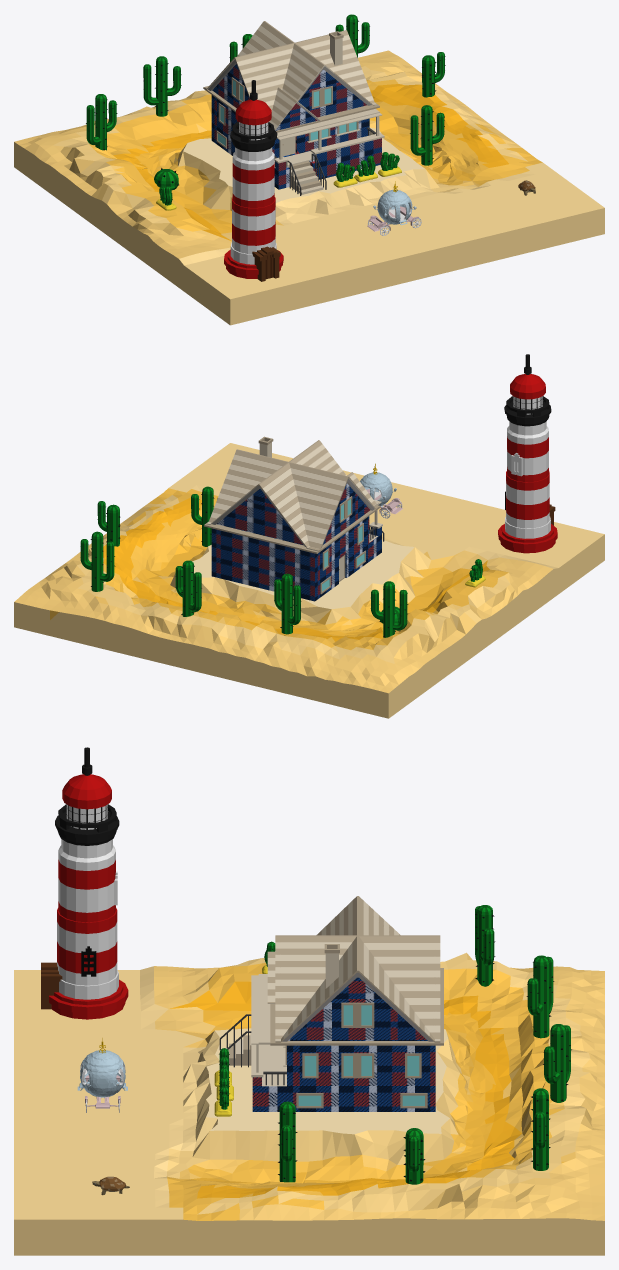
3 renders of one model, top to bottom at view 1: azimuth 30°, elevation 25°; view 2: azimuth 150°, elevation 25°; view 3: azimuth 270°, elevation 25°, orthographic. The views are drawn at different scales.
Parts seen in each view (by area): view 1: Cube.001, Cube.171, OBJRANDOM_LIGHTHOUSE, VEHICLES_FANTASY_CARRIAGE, Cylinder.044, Cylinder.037, Cylinder.045, Cylinder.038, Cylinder.042, Cylinder.039, Cylinder.041; view 2: Cube.001, Cube.171, OBJRANDOM_LIGHTHOUSE, Cylinder.042, Cylinder.045, Cylinder.044, Cylinder.043, VEHICLES_FANTASY_CARRIAGE, Cylinder.037, Cylinder.038; view 3: Cube.001, Cube.171, OBJRANDOM_LIGHTHOUSE, VEHICLES_FANTASY_CARRIAGE, Cylinder.044, Cylinder.043, Cylinder.045, Cylinder.037, Cylinder.042, Cylinder.038.
Boxes of the visible parts, bbox=[...] form: Cube.001: bbox=[14, 50, 604, 325]; Cube.171: bbox=[203, 21, 384, 195]; OBJRANDOM_LIGHTHOUSE: bbox=[224, 80, 283, 281]; VEHICLES_FANTASY_CARRIAGE: bbox=[367, 181, 421, 235]; Cylinder.044: bbox=[143, 56, 181, 116]; Cylinder.037: bbox=[410, 105, 444, 165]; Cylinder.045: bbox=[86, 94, 117, 150]; Cylinder.038: bbox=[422, 52, 445, 97]; Cylinder.042: bbox=[335, 14, 369, 57]; Cylinder.039: bbox=[333, 162, 357, 187]; Cylinder.041: bbox=[378, 152, 401, 176]; Cube.001: bbox=[14, 443, 604, 718]; Cube.171: bbox=[204, 436, 384, 601]; OBJRANDOM_LIGHTHOUSE: bbox=[498, 354, 557, 553]; Cylinder.042: bbox=[80, 531, 115, 591]; Cylinder.045: bbox=[370, 581, 408, 637]; Cylinder.044: bbox=[274, 573, 301, 634]; Cylinder.043: bbox=[175, 560, 201, 616]; VEHICLES_FANTASY_CARRIAGE: bbox=[360, 463, 402, 518]; Cylinder.037: bbox=[191, 486, 217, 546]; Cylinder.038: bbox=[97, 501, 120, 546]; Cube.001: bbox=[14, 952, 604, 1255]; Cube.171: bbox=[219, 896, 443, 1111]; OBJRANDOM_LIGHTHOUSE: bbox=[41, 747, 128, 1019]; VEHICLES_FANTASY_CARRIAGE: bbox=[77, 1038, 127, 1112]; Cylinder.044: bbox=[526, 955, 554, 1038]; Cylinder.043: bbox=[543, 1024, 571, 1102]; Cylinder.045: bbox=[475, 905, 495, 986]; Cylinder.037: bbox=[277, 1101, 297, 1182]; Cylinder.042: bbox=[531, 1088, 550, 1170]; Cylinder.038: bbox=[403, 1128, 425, 1184].
Bounding box in the file's own units: 4002 × 2250 × 4001.
32 materials, 3 textured.
